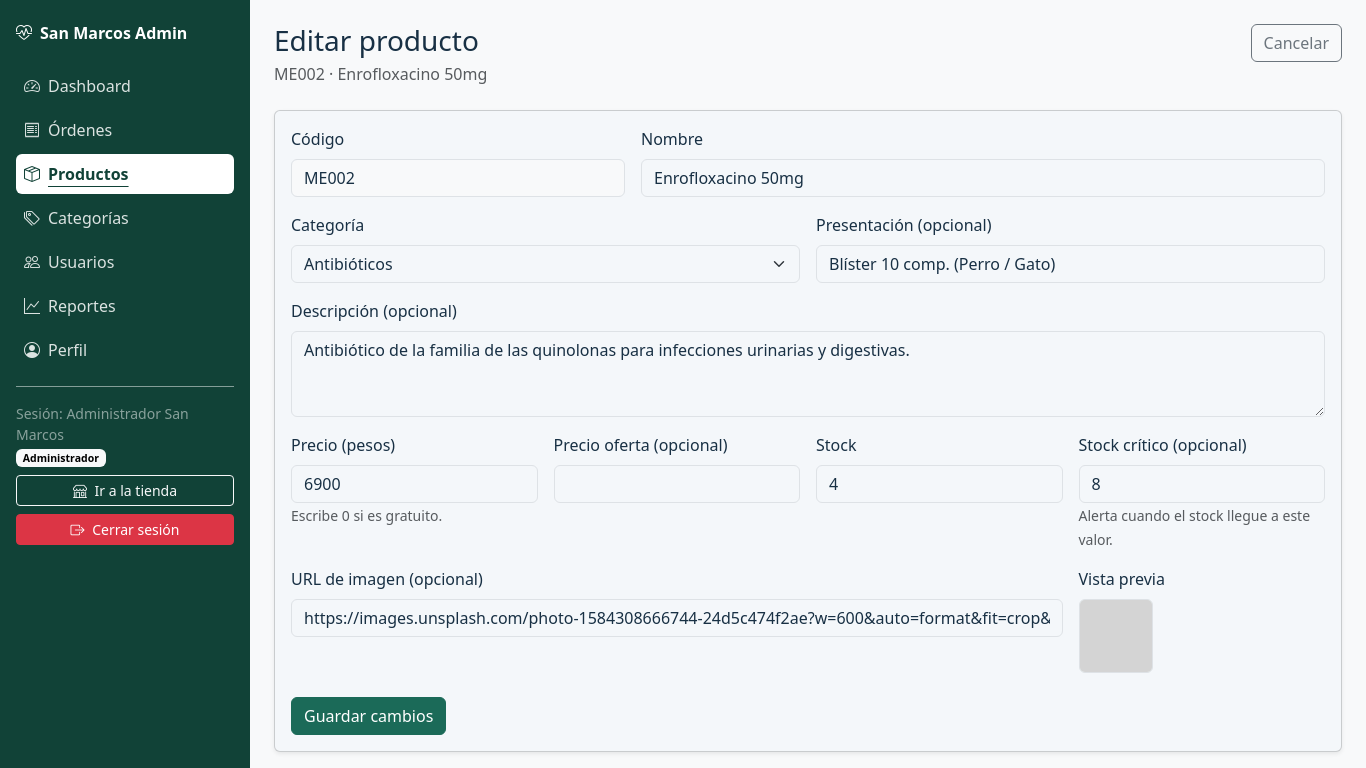
Panel de administración: cada vista renderiza sus datos › edita un producto y muestra el aviso de cambios guardados
Replace the text in the number field labelled "Stock" with "30": (939, 484) [816, 465, 1062, 503]
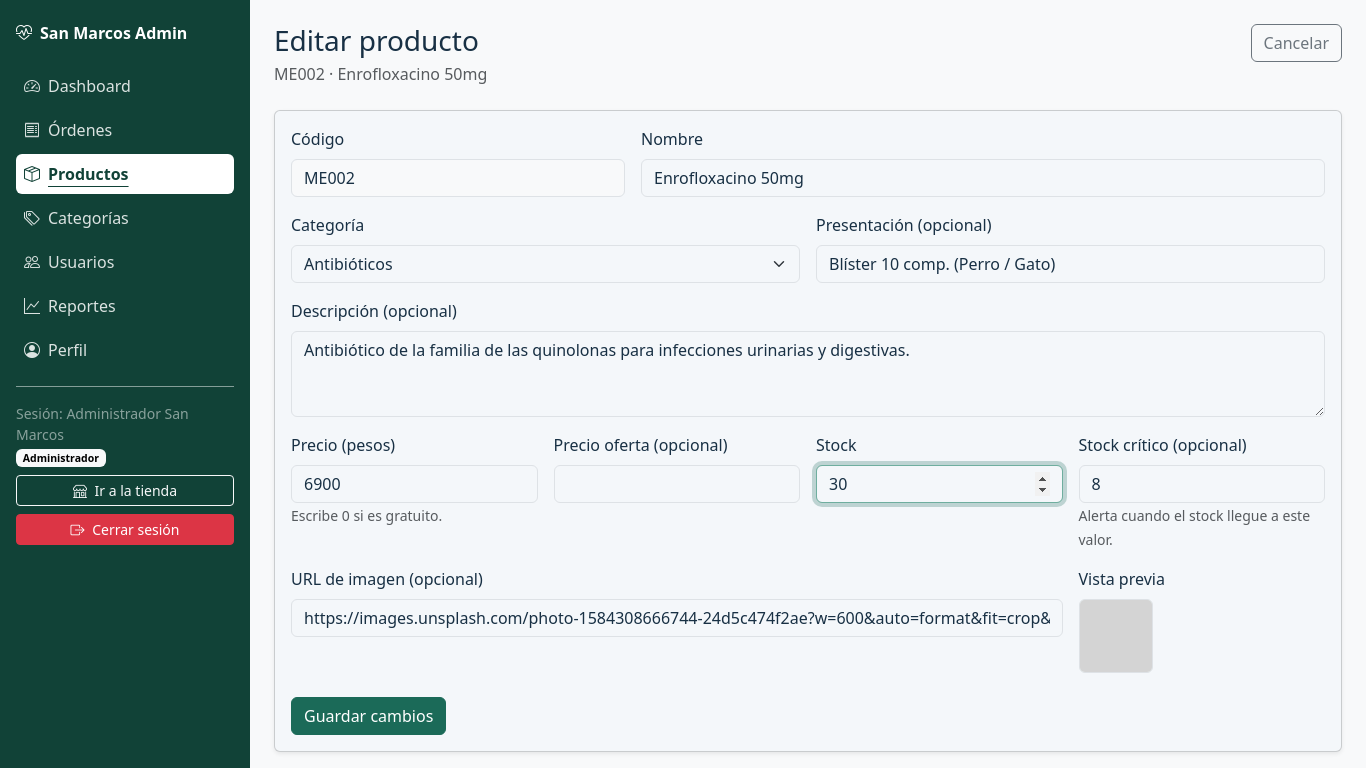
Click the button "Guardar cambios": (369, 716) [291, 697, 446, 735]
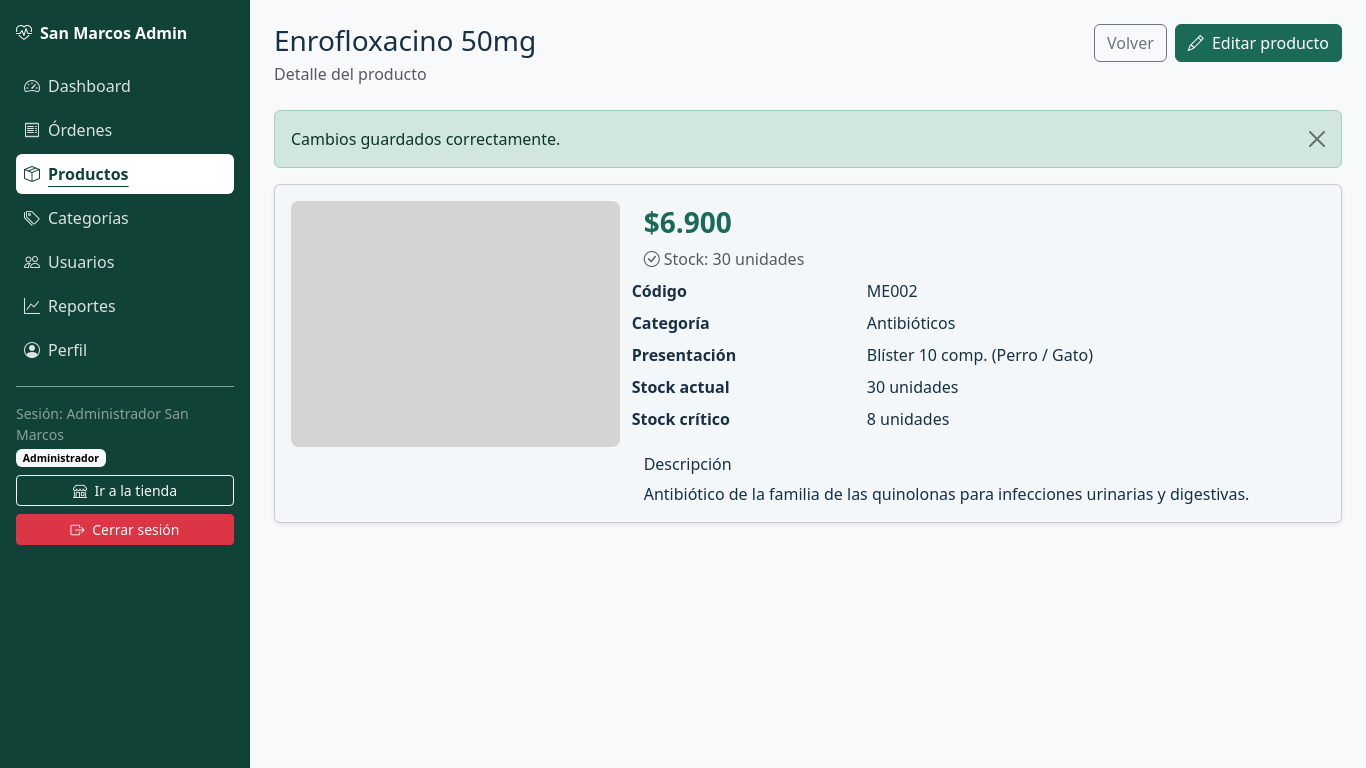
Now the text "Cambios guardados correctamente." is shown, box [274, 110, 1342, 168]
Now the text "Stock: 30 unidades" is shown, box [644, 248, 804, 270]
